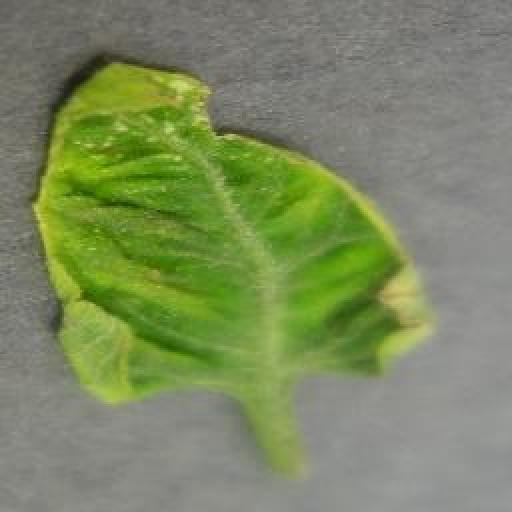Yellow Leaf Curl Virus: (38, 56, 435, 405)
